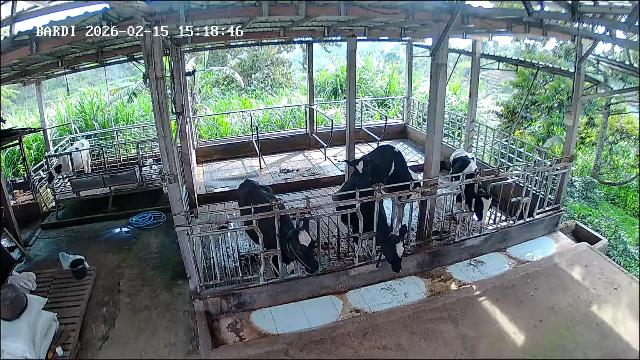mounting: (348, 144, 413, 231)
